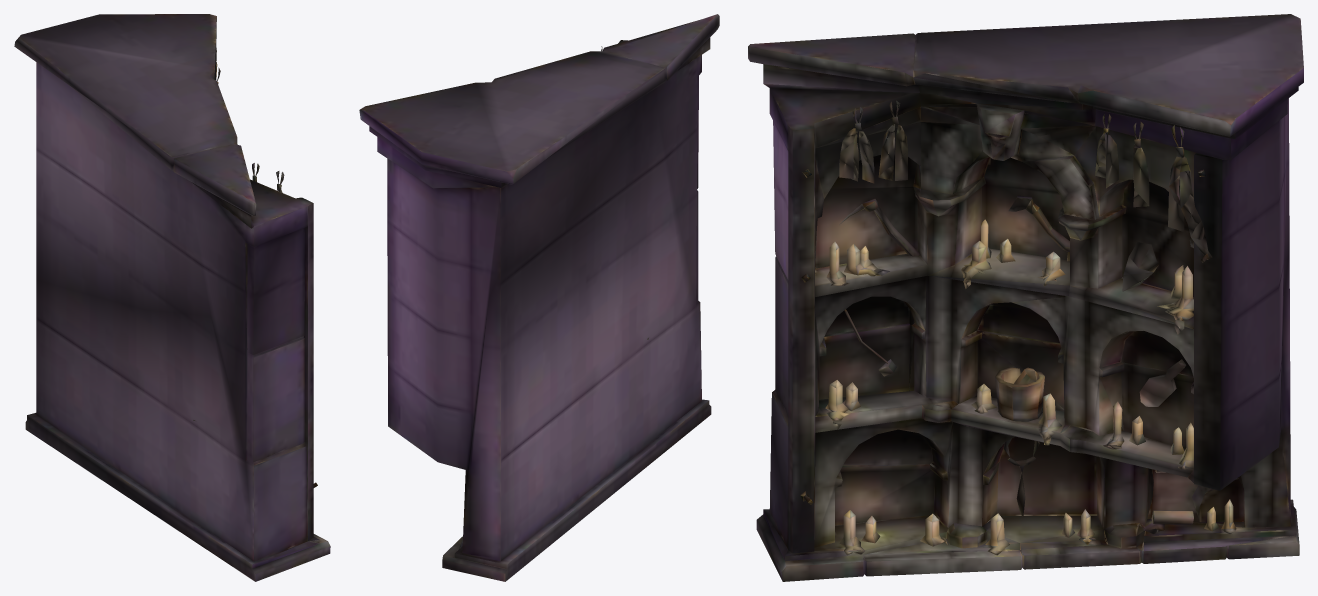
Rendered from rite_niches.glb.
The picture shows the model from 3 angles, left to right: view 1: azimuth 30°, elevation 25°; view 2: azimuth 150°, elevation 25°; view 3: azimuth 270°, elevation 25°; orthographic projection. The views are drawn at different scales.
Parts seen in each view (by area): view 1: tripo_node_6595f828-8c0f-4464-b239-9f264b8ea902; view 2: tripo_node_6595f828-8c0f-4464-b239-9f264b8ea902; view 3: tripo_node_6595f828-8c0f-4464-b239-9f264b8ea902.
Part boxes in pixels (x1,y1,x2,y2): tripo_node_6595f828-8c0f-4464-b239-9f264b8ea902: [14, 14, 330, 581]; tripo_node_6595f828-8c0f-4464-b239-9f264b8ea902: [359, 14, 719, 581]; tripo_node_6595f828-8c0f-4464-b239-9f264b8ea902: [748, 14, 1303, 581].
Bounding box in the file's own units: 0.459 × 0.9902 × 0.998.
1 material, 1 textured.
